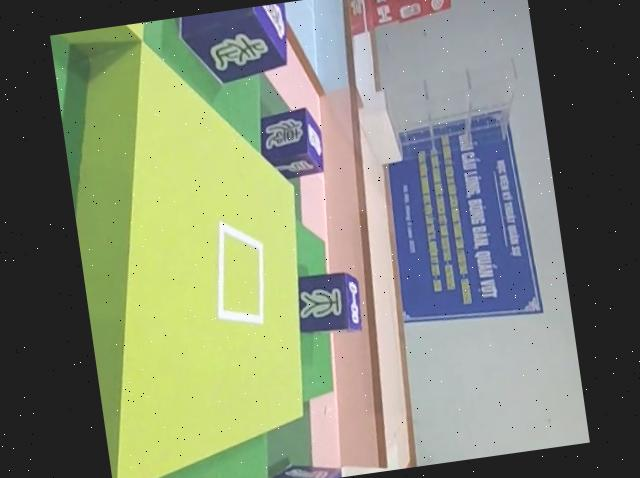R2 Fake Blue: (173, 3, 293, 87), (256, 105, 329, 183), (290, 266, 365, 340)
